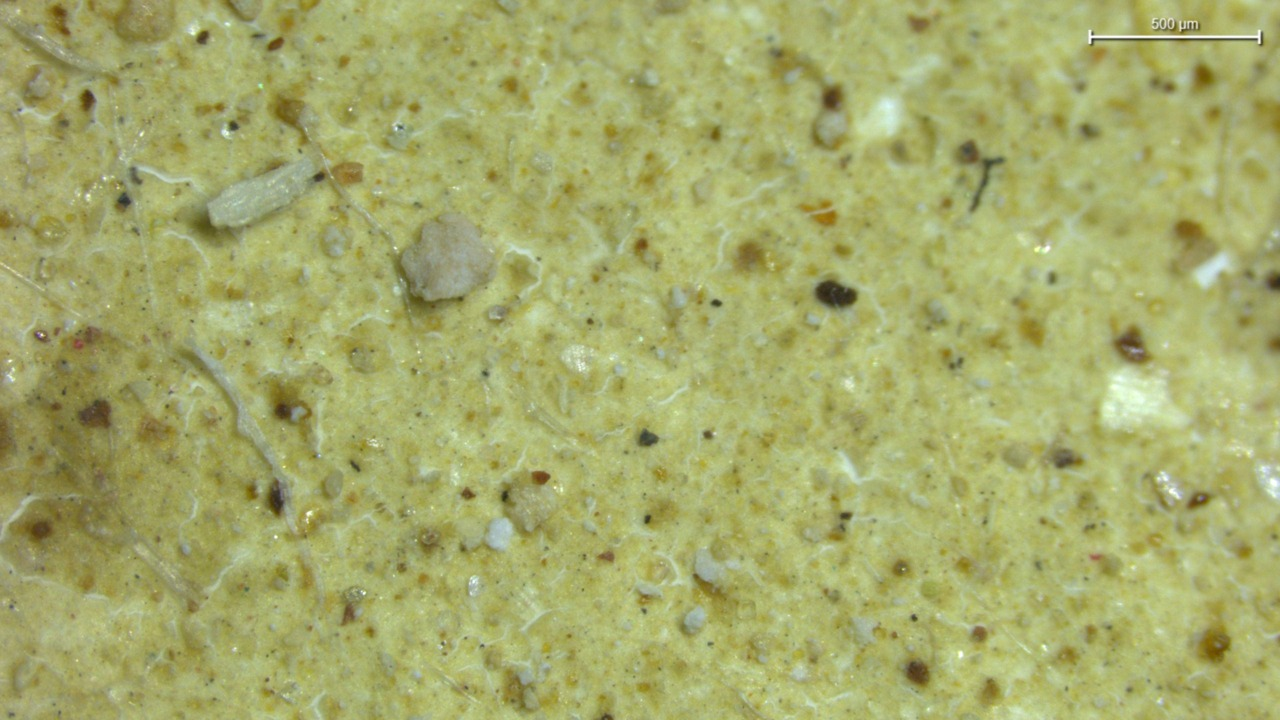microplastic_fragment: (400, 213, 493, 301), (484, 517, 514, 551)
